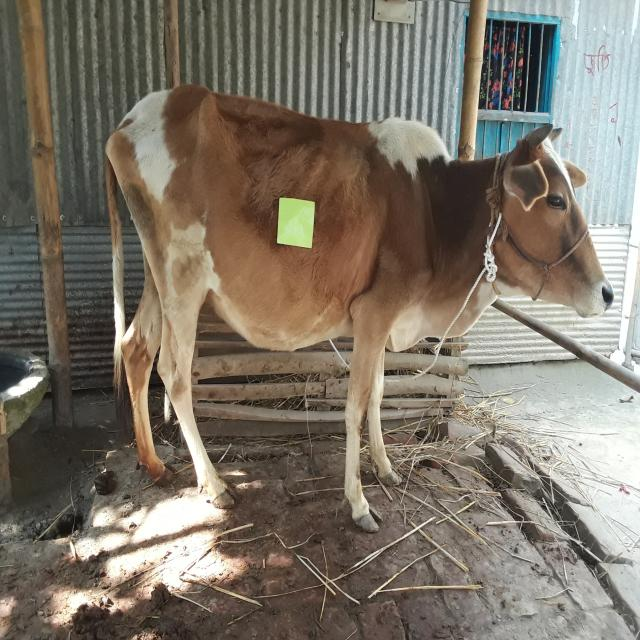badan_sapi: (122, 91, 403, 341)
sapi: (106, 81, 618, 534)
